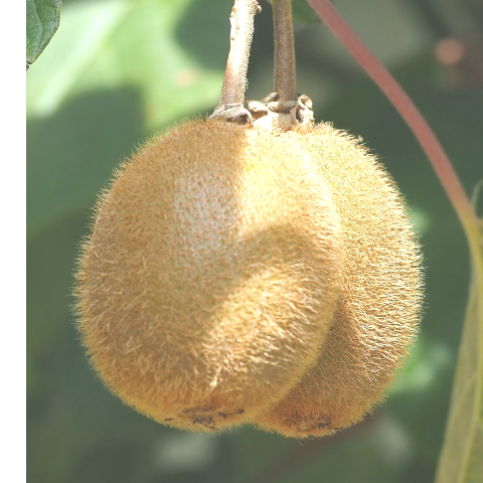kiwi: (72, 94, 343, 458)
